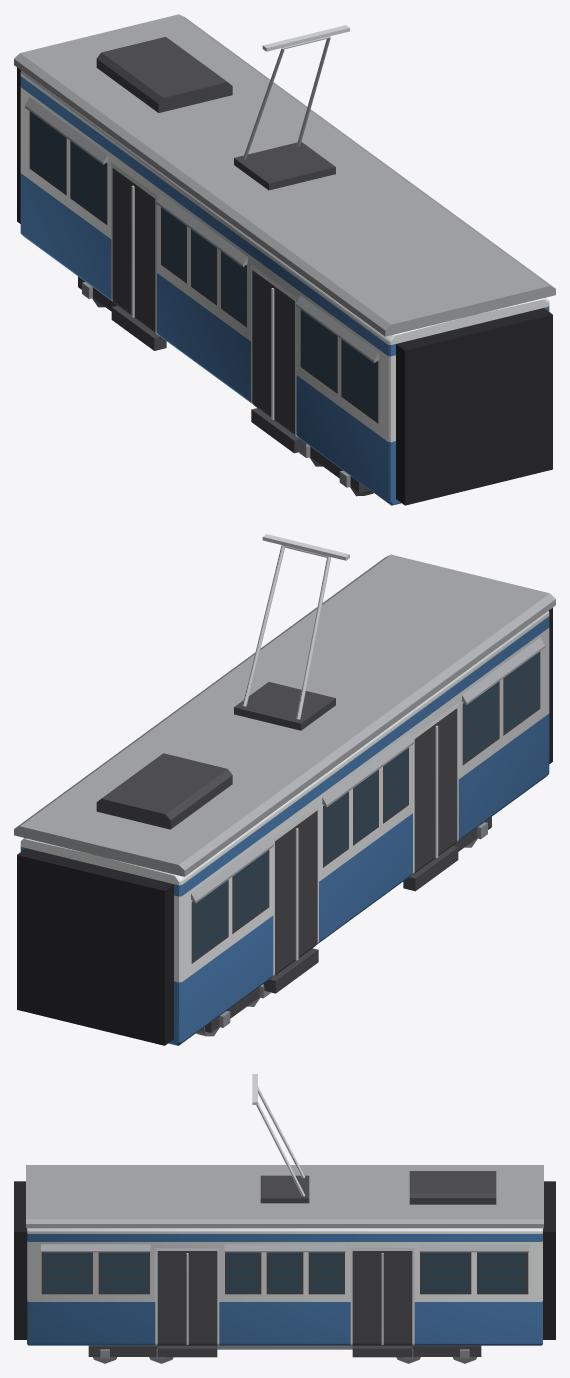
File: middle_4.fbx
3 views of the same model, one above another, from view 1: azimuth 30°, elevation 25°; view 2: azimuth 150°, elevation 25°; view 3: azimuth 270°, elevation 25° (orthographic). The views are drawn at different scales.
Visible parts, largest first — view 1: 14_middle_4; view 2: 14_middle_4; view 3: 14_middle_4.
Part boxes in pixels (x1,y1,x2,y2): 14_middle_4: [14, 14, 555, 505]; 14_middle_4: [14, 534, 555, 1045]; 14_middle_4: [14, 1074, 555, 1363].
Size of the model in its own units: 2.54 by 5.21 by 10.
